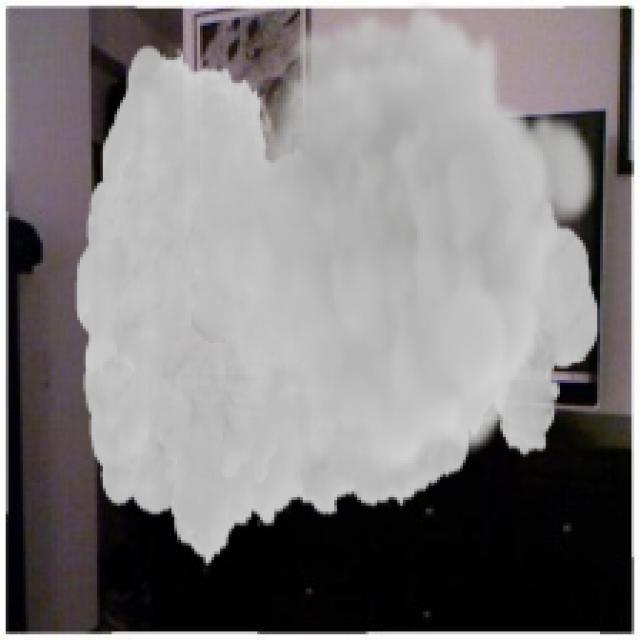Smoke: (74, 0, 600, 569)
